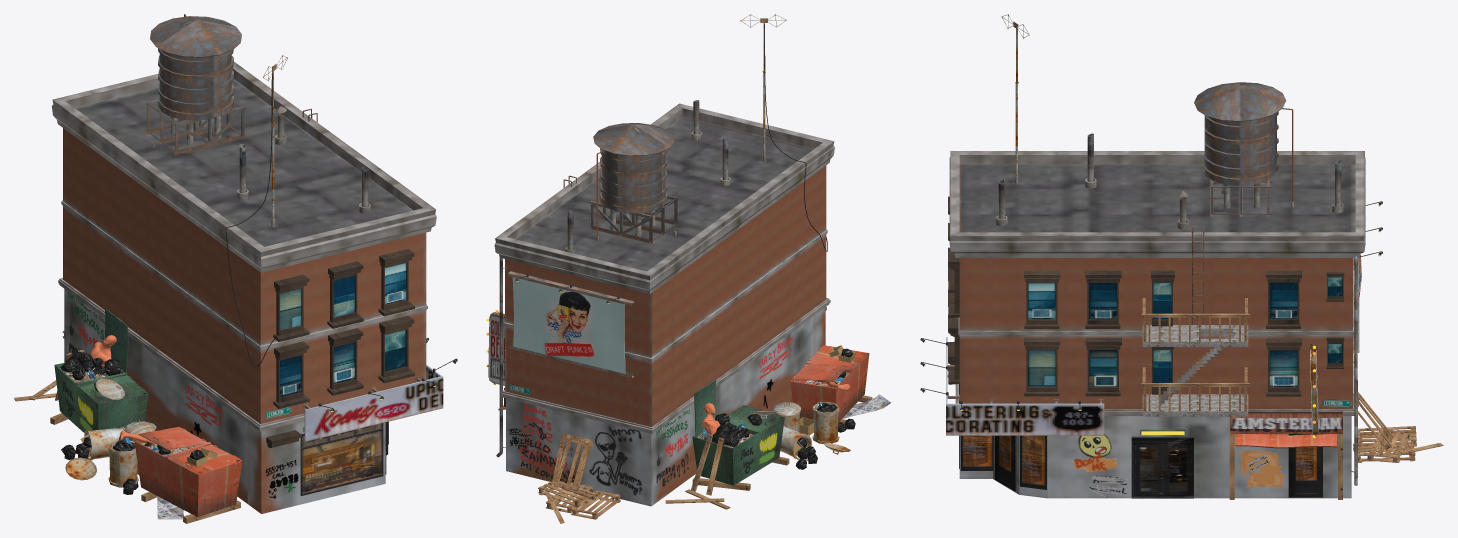
Rendered from city_house.glb.
The picture shows the model from 3 angles, left to right: view 1: azimuth 30°, elevation 25°; view 2: azimuth 150°, elevation 25°; view 3: azimuth 270°, elevation 25°; orthographic projection. The views are drawn at different scales.
Visible parts, largest first — view 1: 1home_copy, 7vodokachka_copy, 10okna_rama_copy, 27trash_2_copy, 9okna_steklo_copy, 20viveska_mag_copy, 26trash_1_copy, 11vitrina_1_copy, 32vedro_copy, 31trash_copy, 6truba_copy, 34doski_copy (+5 smaller); view 2: 1home_copy, 15viveska_xyz_copy, 7vodokachka_copy, 34doski_copy, 26trash_1_copy, 27trash_2_copy, 32vedro_copy, 6truba_copy, 31trash_copy, graf_10, graf_2, 16for_viveska_xyz_copy (+6 smaller); view 3: 1home_copy, 10okna_rama_copy, 7vodokachka_copy, 9okna_steklo_copy, 20viveska_mag_copy, 14door_home_copy, 5balkon_2_copy, 4balkon_1_copy, 6truba_copy, 34doski_copy, 19viveska_bar_copy, 13door_bar (+8 smaller).
Boxes of the visible parts, bbox=[...] form: 1home_copy: bbox=[51, 62, 436, 513]; 7vodokachka_copy: bbox=[145, 16, 245, 154]; 10okna_rama_copy: bbox=[266, 249, 414, 447]; 27trash_2_copy: bbox=[135, 427, 242, 517]; 9okna_steklo_copy: bbox=[280, 263, 406, 396]; 20viveska_mag_copy: bbox=[304, 364, 443, 441]; 26trash_1_copy: bbox=[54, 308, 148, 432]; 11vitrina_1_copy: bbox=[300, 423, 383, 495]; 32vedro_copy: bbox=[65, 378, 156, 487]; 31trash_copy: bbox=[60, 351, 204, 494]; 6truba_copy: bbox=[151, 106, 370, 226]; 34doski_copy: bbox=[14, 331, 240, 523]; 1home_copy: bbox=[494, 103, 834, 506]; 15viveska_xyz_copy: bbox=[512, 277, 625, 373]; 7vodokachka_copy: bbox=[590, 123, 678, 243]; 34doski_copy: bbox=[538, 395, 872, 523]; 26trash_1_copy: bbox=[692, 380, 784, 485]; 27trash_2_copy: bbox=[790, 345, 869, 422]; 32vedro_copy: bbox=[750, 402, 850, 459]; 6truba_copy: bbox=[496, 100, 765, 457]; 31trash_copy: bbox=[711, 348, 855, 469]; graf_10: bbox=[520, 403, 574, 482]; graf_2: bbox=[589, 426, 641, 495]; 16for_viveska_xyz_copy: bbox=[508, 271, 634, 378]; 1home_copy: bbox=[949, 151, 1365, 498]; 10okna_rama_copy: bbox=[948, 196, 1344, 396]; 7vodokachka_copy: bbox=[1194, 82, 1286, 216]; 9okna_steklo_copy: bbox=[1028, 277, 1342, 386]; 20viveska_mag_copy: bbox=[946, 337, 1104, 435]; 14door_home_copy: bbox=[1131, 436, 1193, 498]; 5balkon_2_copy: bbox=[1141, 367, 1249, 416]; 4balkon_1_copy: bbox=[1141, 298, 1249, 346]; 6truba_copy: bbox=[995, 133, 1357, 485]; 34doski_copy: bbox=[1353, 392, 1443, 462]; 19viveska_bar_copy: bbox=[1230, 411, 1342, 433]; 13door_bar: bbox=[1288, 434, 1322, 497].
Bounding box in the file's own units: 458 × 622 × 662.
Materials: 53 (46 with a texture image).
